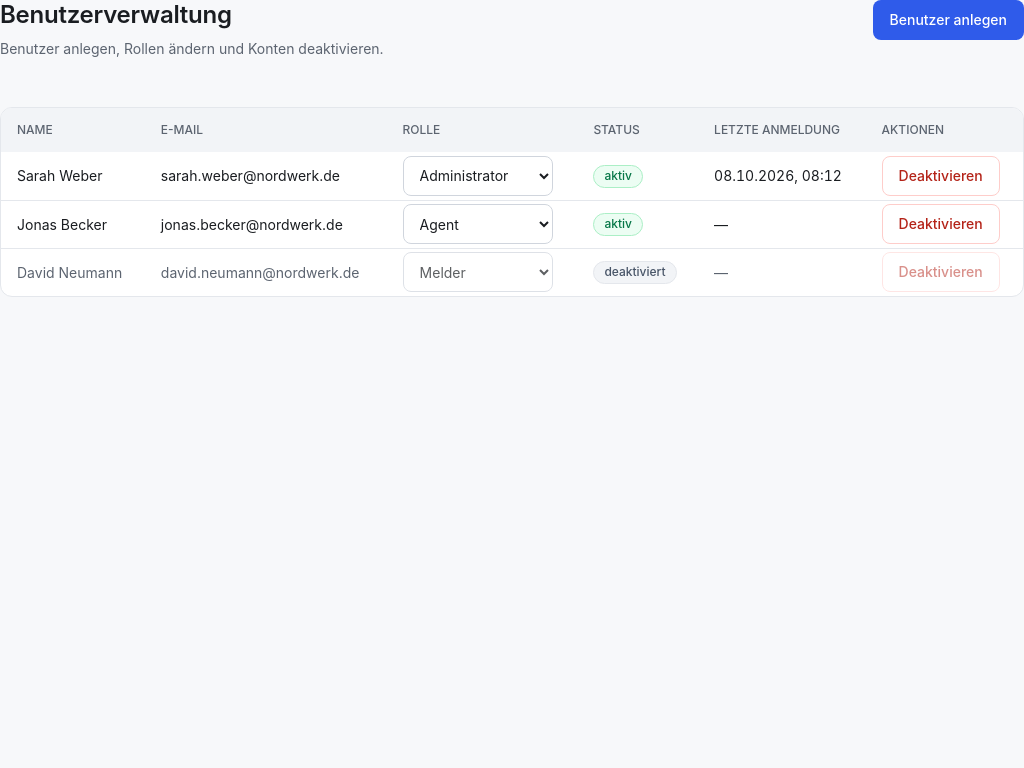
UsersPage › does not show field errors on an untouched form
Check: the text "Sarah Weber" is shown, box [1,152,145,200]
Click the button with test id "new-user-btn".
click(948, 20)  # box [873,0,1023,40]
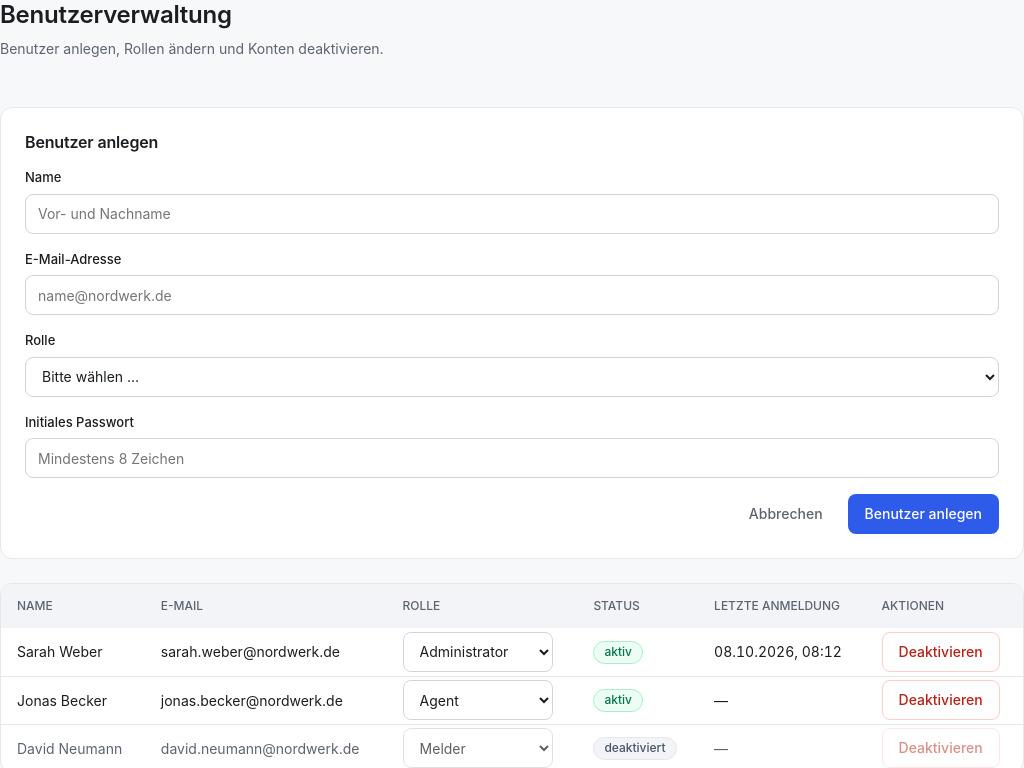
Check: the element with test id "user-form" is shown, box [0,107,1023,559]
